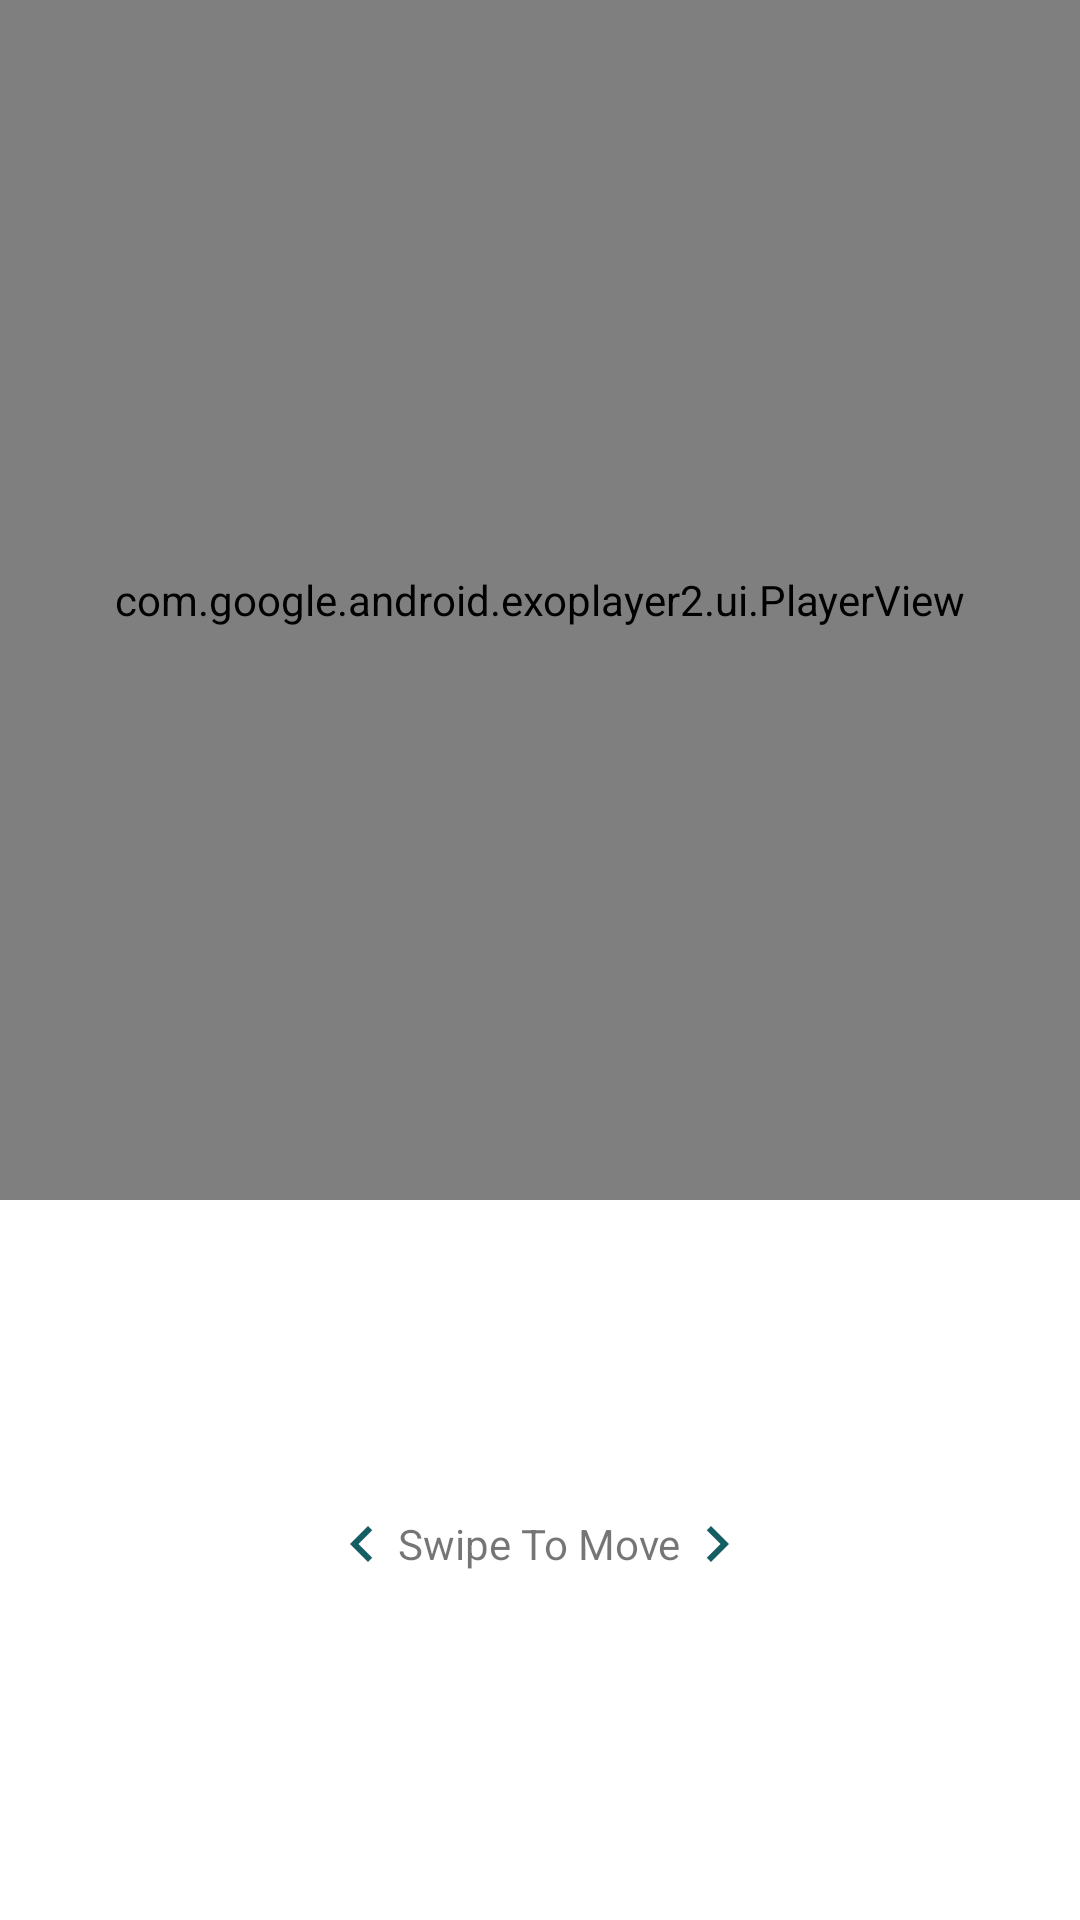

Locate icon controls on the screen. Image size 1080*1920, boxes as (x1, y1, x2, y2).
navigate before: (350, 1526, 372, 1562)
navigate next: (707, 1526, 729, 1562)
